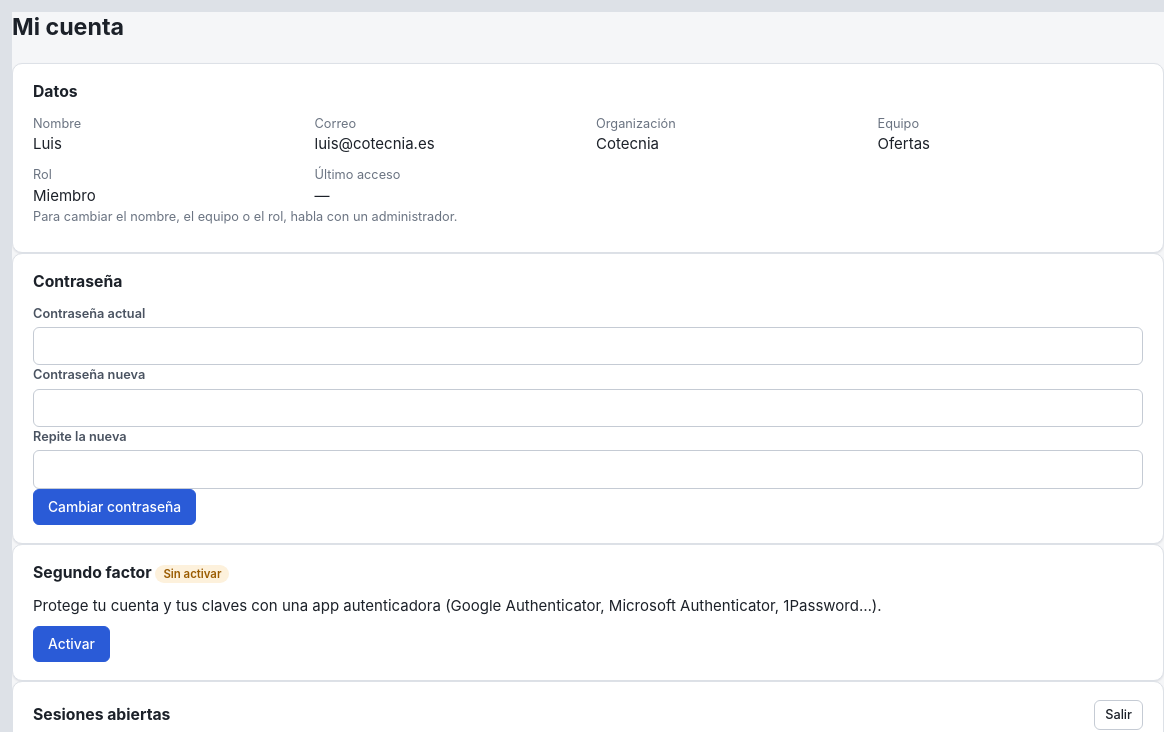
Test: portal de usuario › cambiar la contraseña exige repetirla igual
The width and height of the screenshot is (1164, 732).
In the password field named "Contraseña actual" below "Contraseña actual": (588, 346) x1=33 y1=327 x2=1143 y2=365, type "vieja"
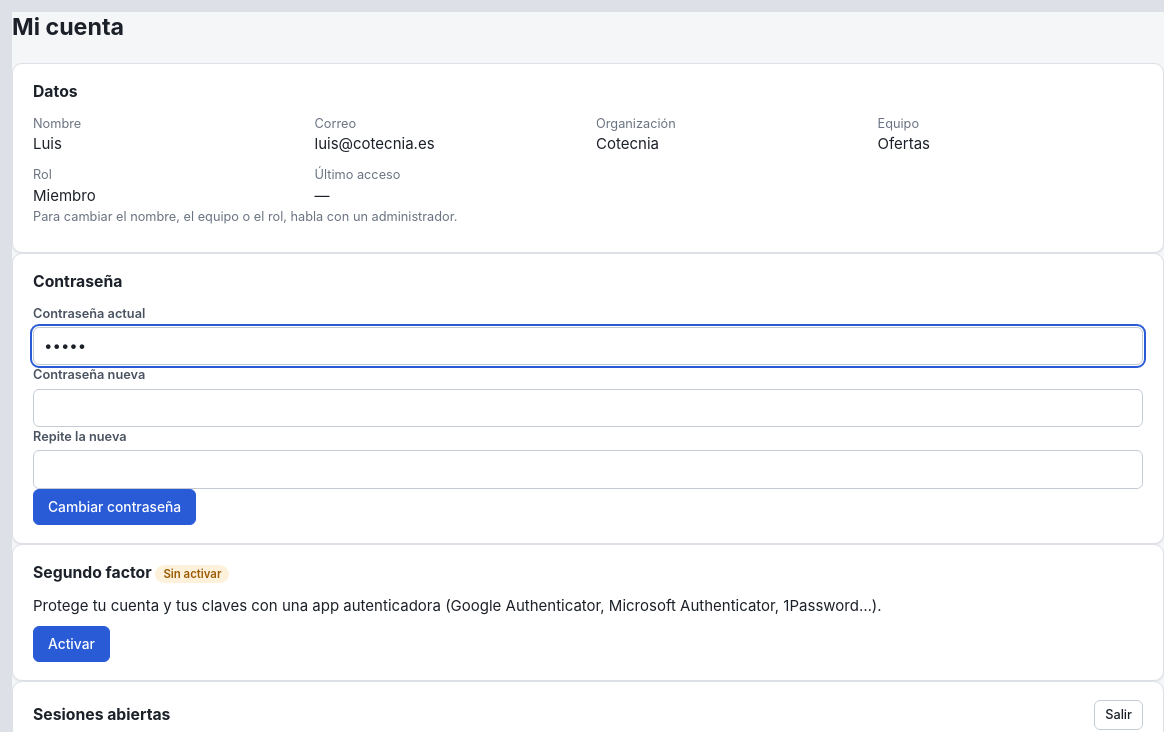
In the password field named "Contraseña nueva" below "Contraseña nueva": (588, 408) x1=33 y1=389 x2=1143 y2=427, type "nueva-larga-1"
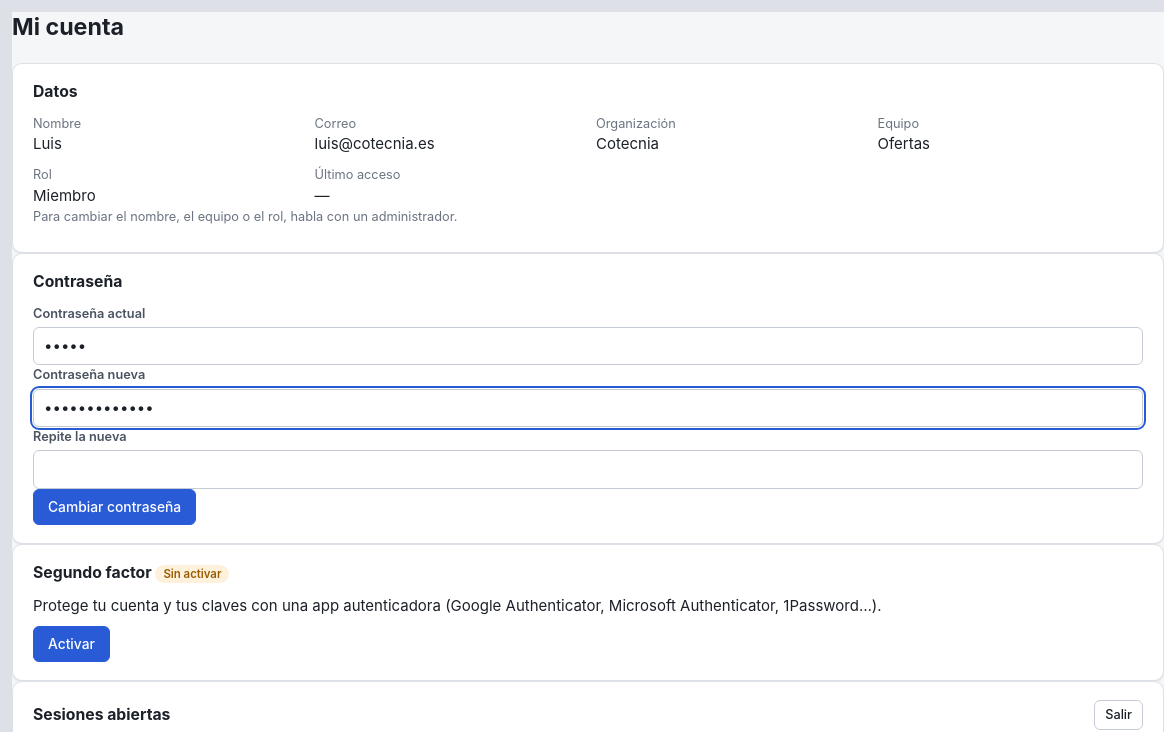
In the password field named "Repite la nueva" below "Repite la nueva": (588, 469) x1=33 y1=450 x2=1143 y2=489, type "otra"
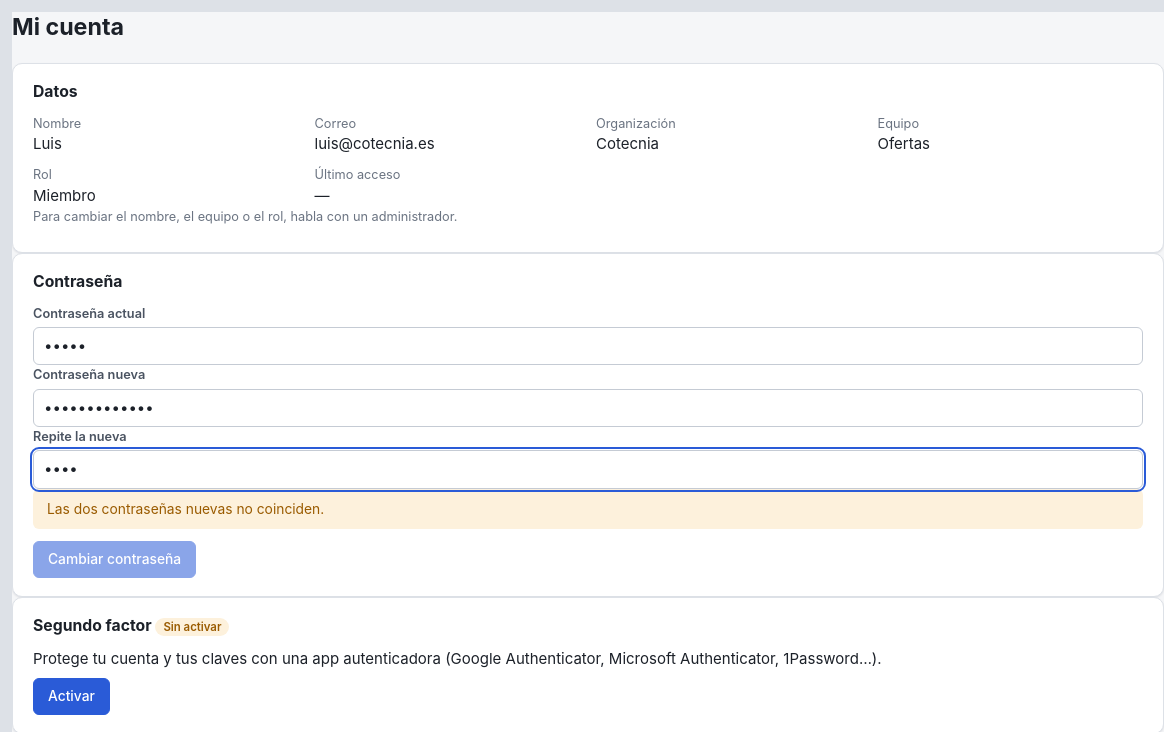
Now the button "Cambiar contraseña" is disabled, box x1=33 y1=541 x2=196 y2=578
In the password field named "Repite la nueva" below "Repite la nueva": (588, 469) x1=33 y1=450 x2=1143 y2=489, type "nueva-larga-1"
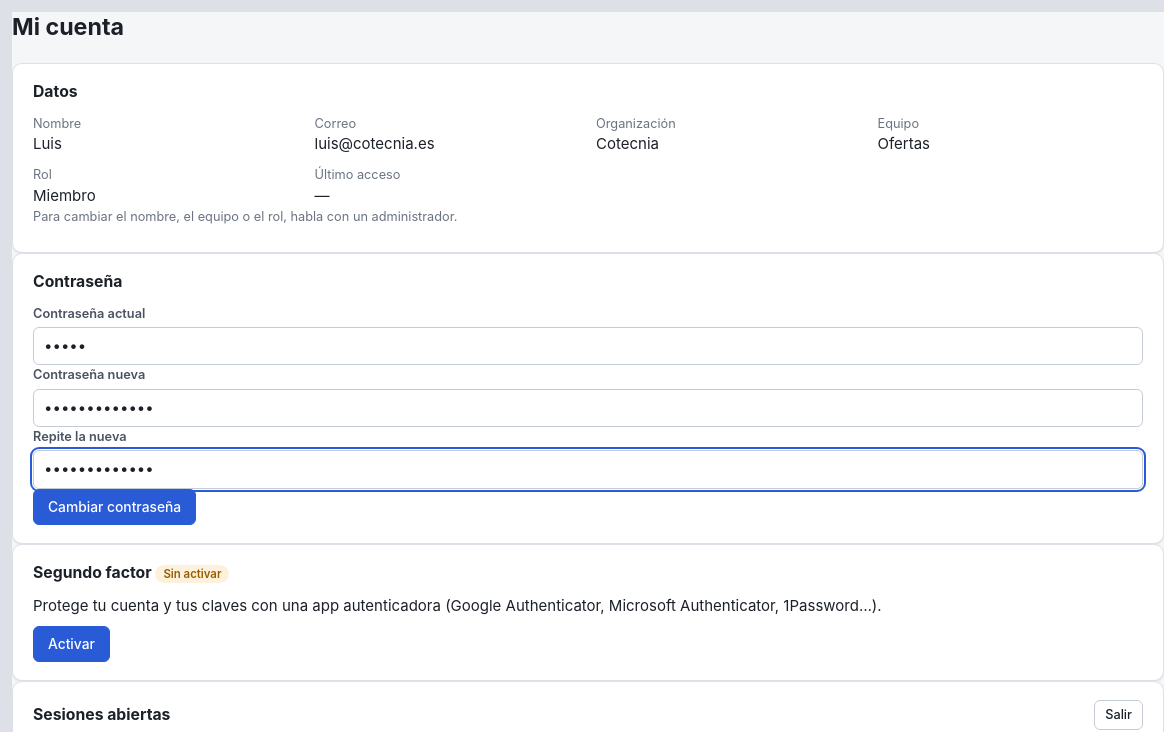
Click the button "Cambiar contraseña": (115, 507) x1=33 y1=489 x2=196 y2=525
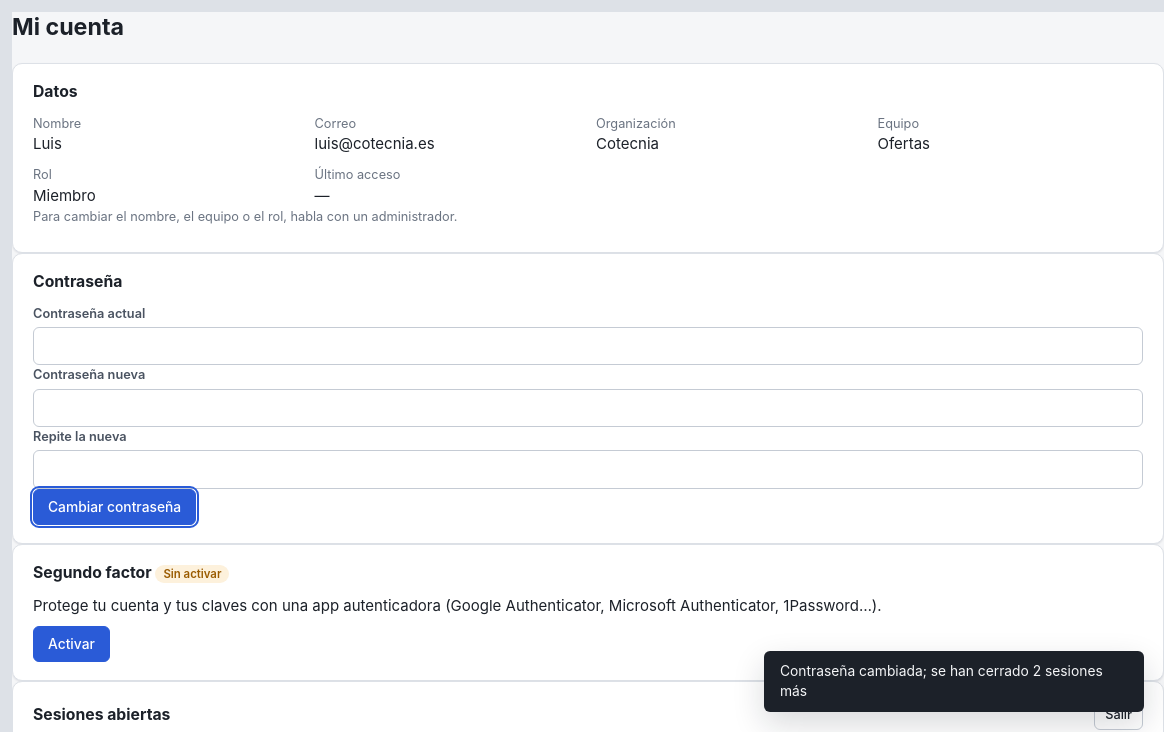
Now the text "Contraseña cambiada; se han cerrado 2 sesiones más" is shown, box x1=764 y1=651 x2=1144 y2=712
